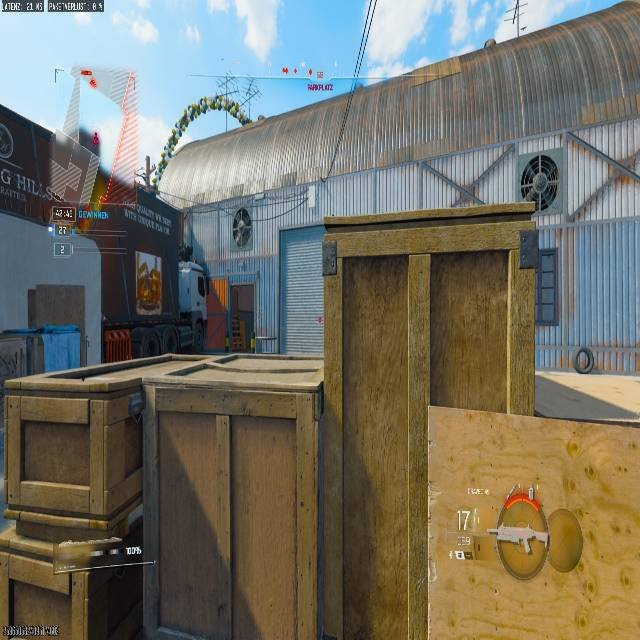head: (239, 208, 248, 217)
player: (518, 153, 560, 217), (232, 207, 251, 246)
